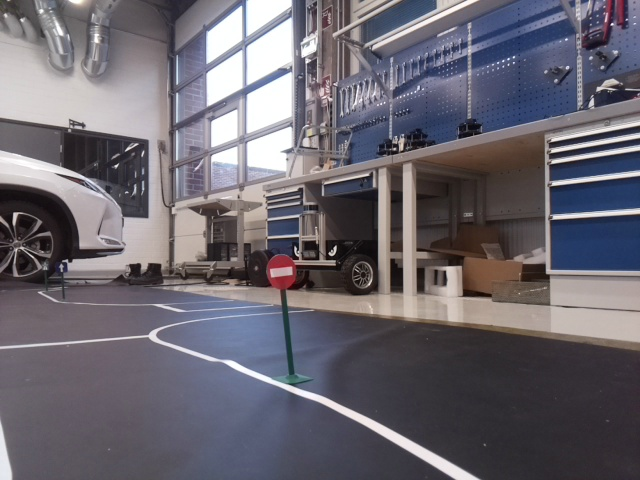NoEntry: (265, 255, 295, 286)
